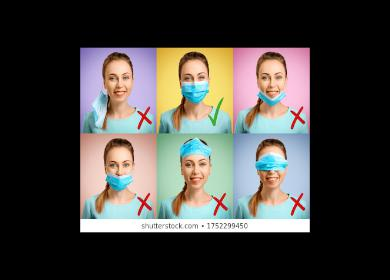mask_weared_incorrect: (180, 145, 212, 190), (257, 151, 289, 189), (260, 68, 286, 104), (106, 157, 133, 190)
with_mask: (183, 69, 207, 103)
without_mask: (107, 69, 131, 102)
